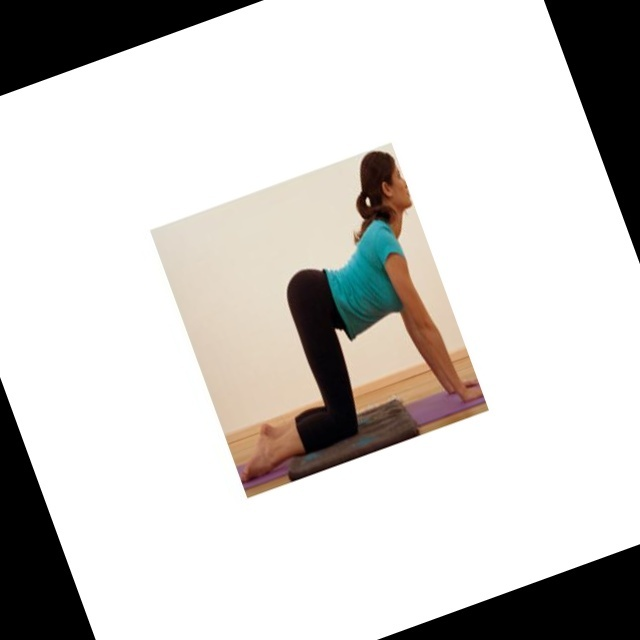Cow_Pose: (242, 151, 486, 485)
